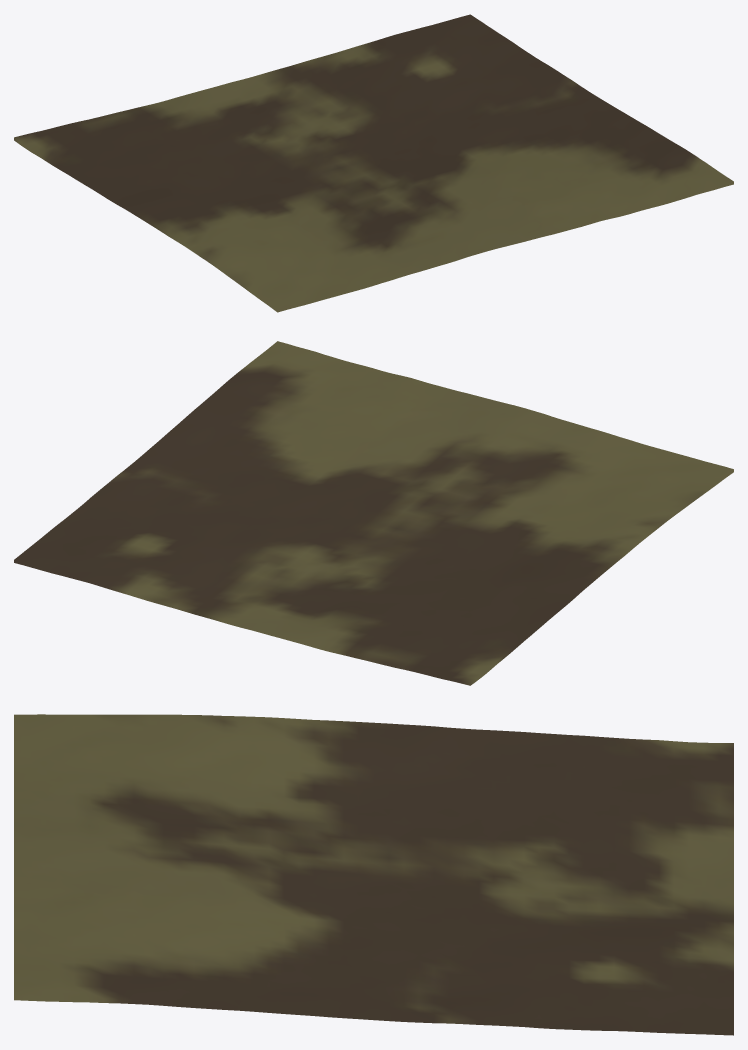
The model's file is land_m_13_10.glb.
3 views of the same model, one above another, from view 1: azimuth 30°, elevation 25°; view 2: azimuth 150°, elevation 25°; view 3: azimuth 270°, elevation 25° (orthographic). The views are drawn at different scales.
Parts seen in each view (by area): view 1: land_m_13_10; view 2: land_m_13_10; view 3: land_m_13_10.
Boxes of the visible parts, x1=… form: land_m_13_10: x1=14, y1=14, x2=733, y2=312; land_m_13_10: x1=14, y1=341, x2=733, y2=685; land_m_13_10: x1=14, y1=714, x2=733, y2=1035.
Bounding box in the file's own units: 960 × 82.29 × 960.
